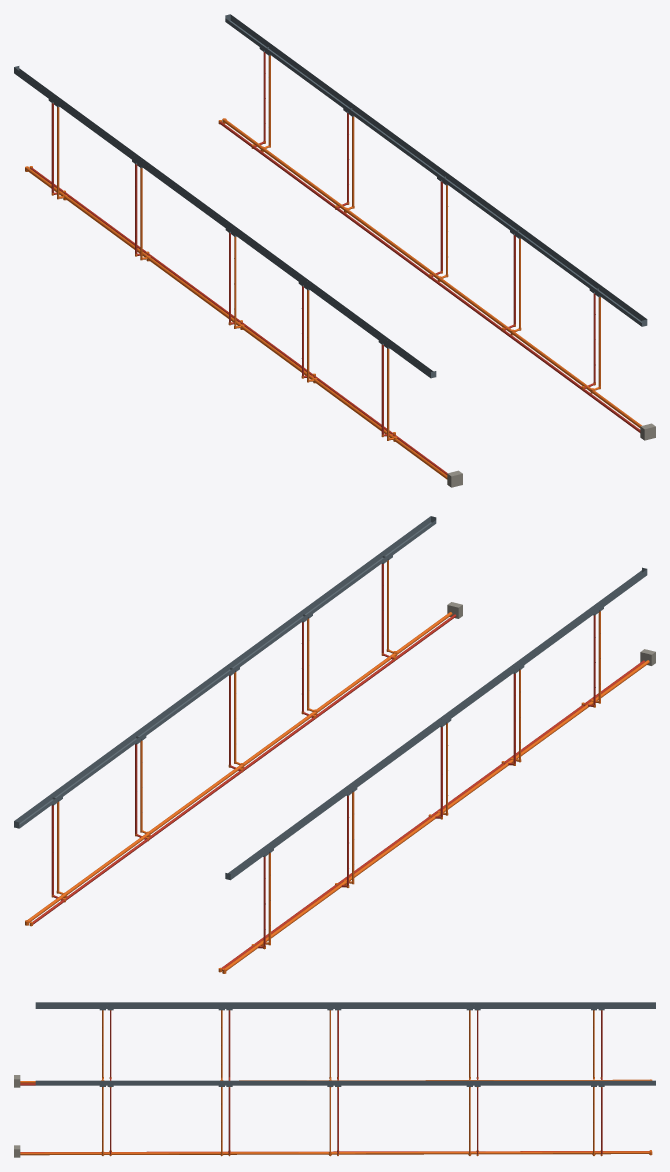
File: hujan.glb
3 renders of one model, top to bottom at view 1: azimuth 30°, elevation 25°; view 2: azimuth 150°, elevation 25°; view 3: azimuth 270°, elevation 25°, orthographic. The views are drawn at different scales.
Visible parts, largest first — view 1: hujan; view 2: hujan; view 3: hujan.
Part boxes in pixels (x1,y1,x2,y2): hujan: (14,14,655,487); hujan: (14,516,655,973); hujan: (14,1002,655,1157).
Size of the model in its own units: 18 by 8.45 by 62.1.
